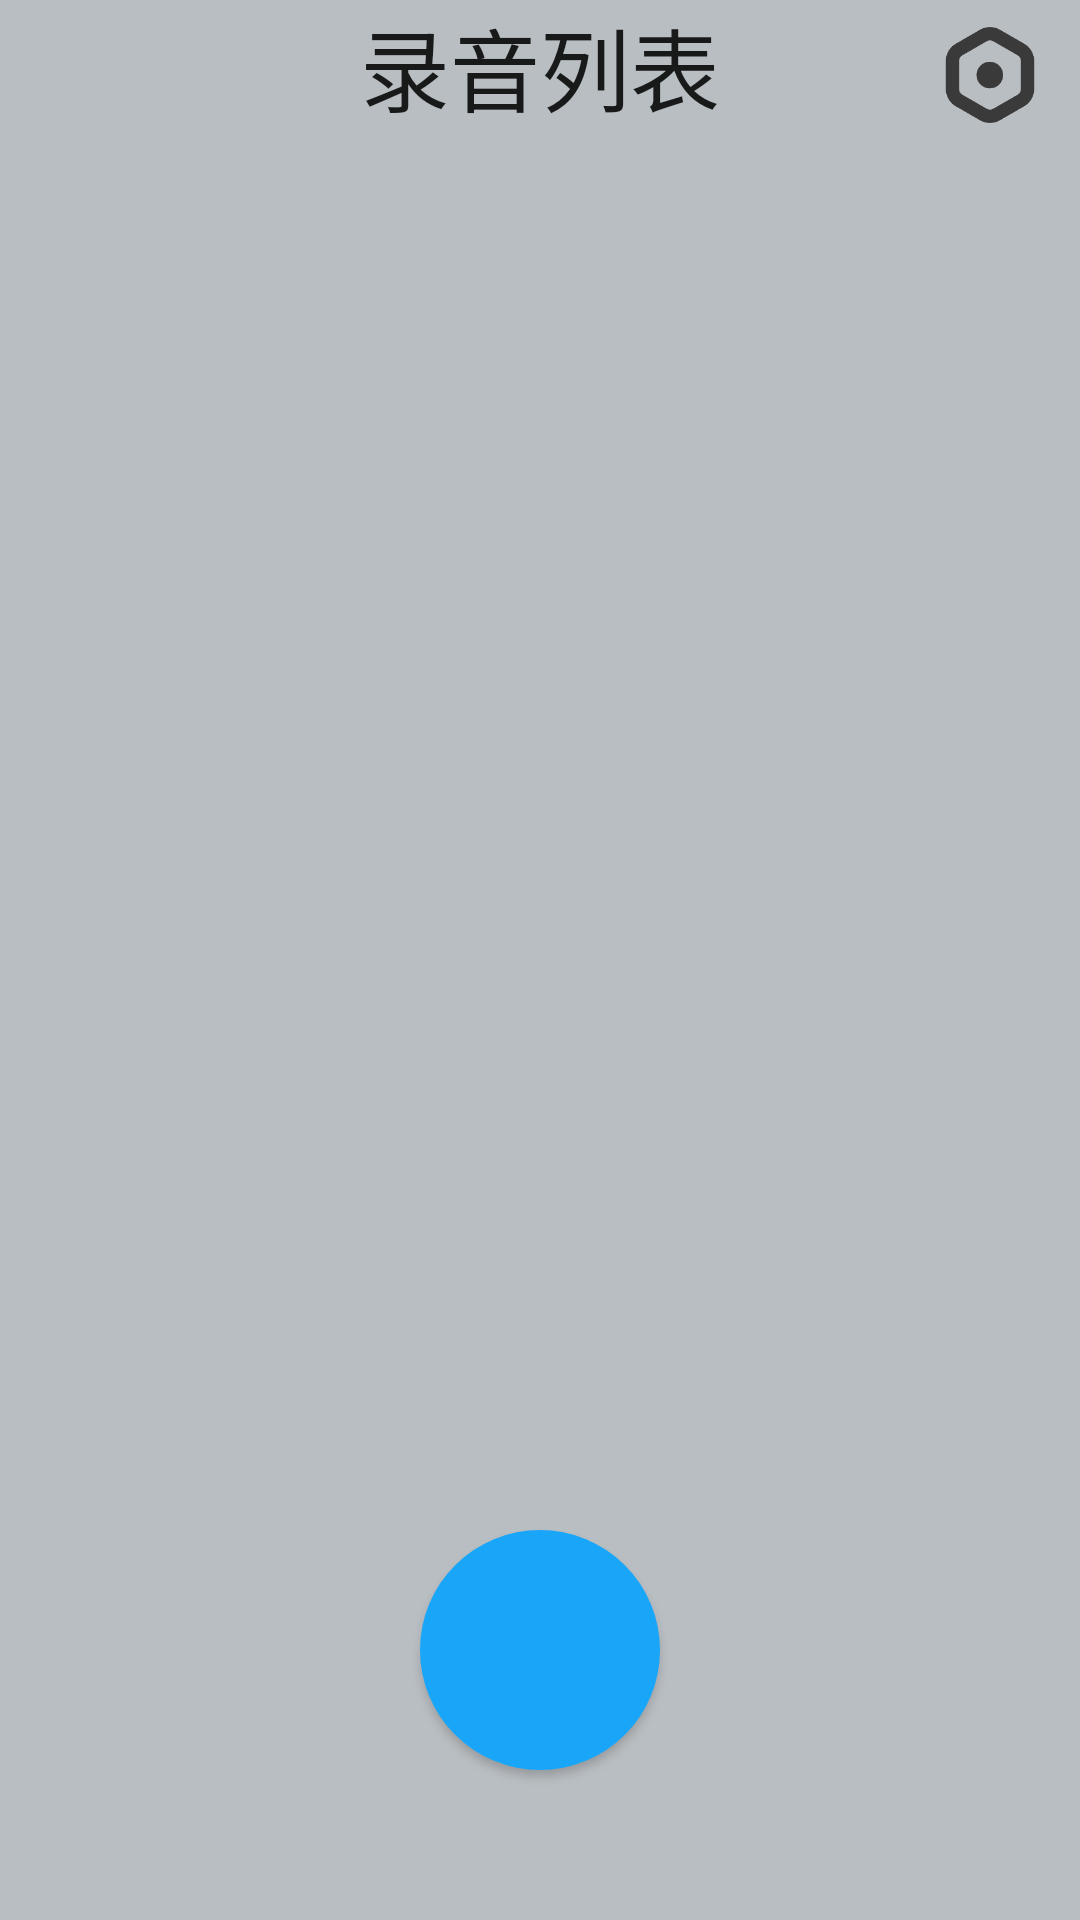

Named icons in this screenshot (1080px×1920px) and their centers, point (x, y):
setting: point (990, 75)
